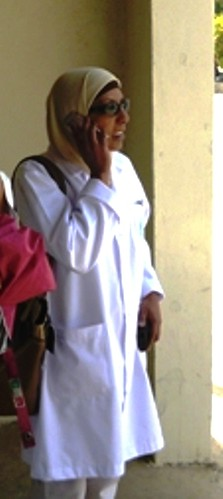phone: (62, 111, 107, 157)
talk: (63, 95, 130, 165)
